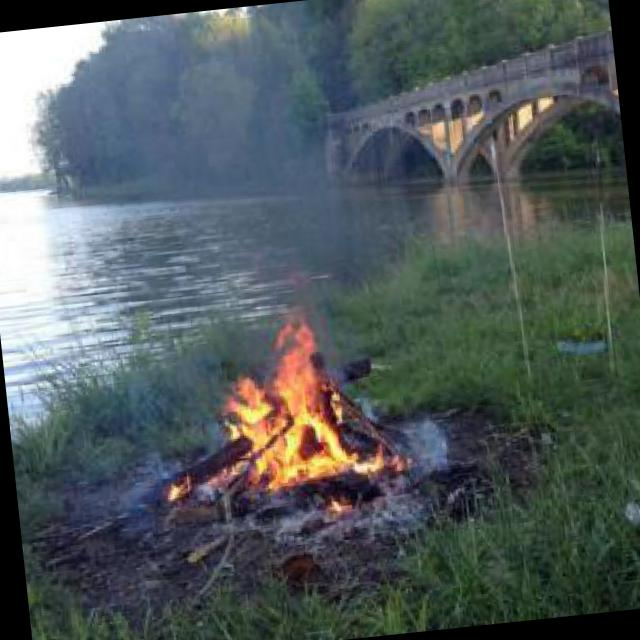fire: (191, 301, 355, 488)
